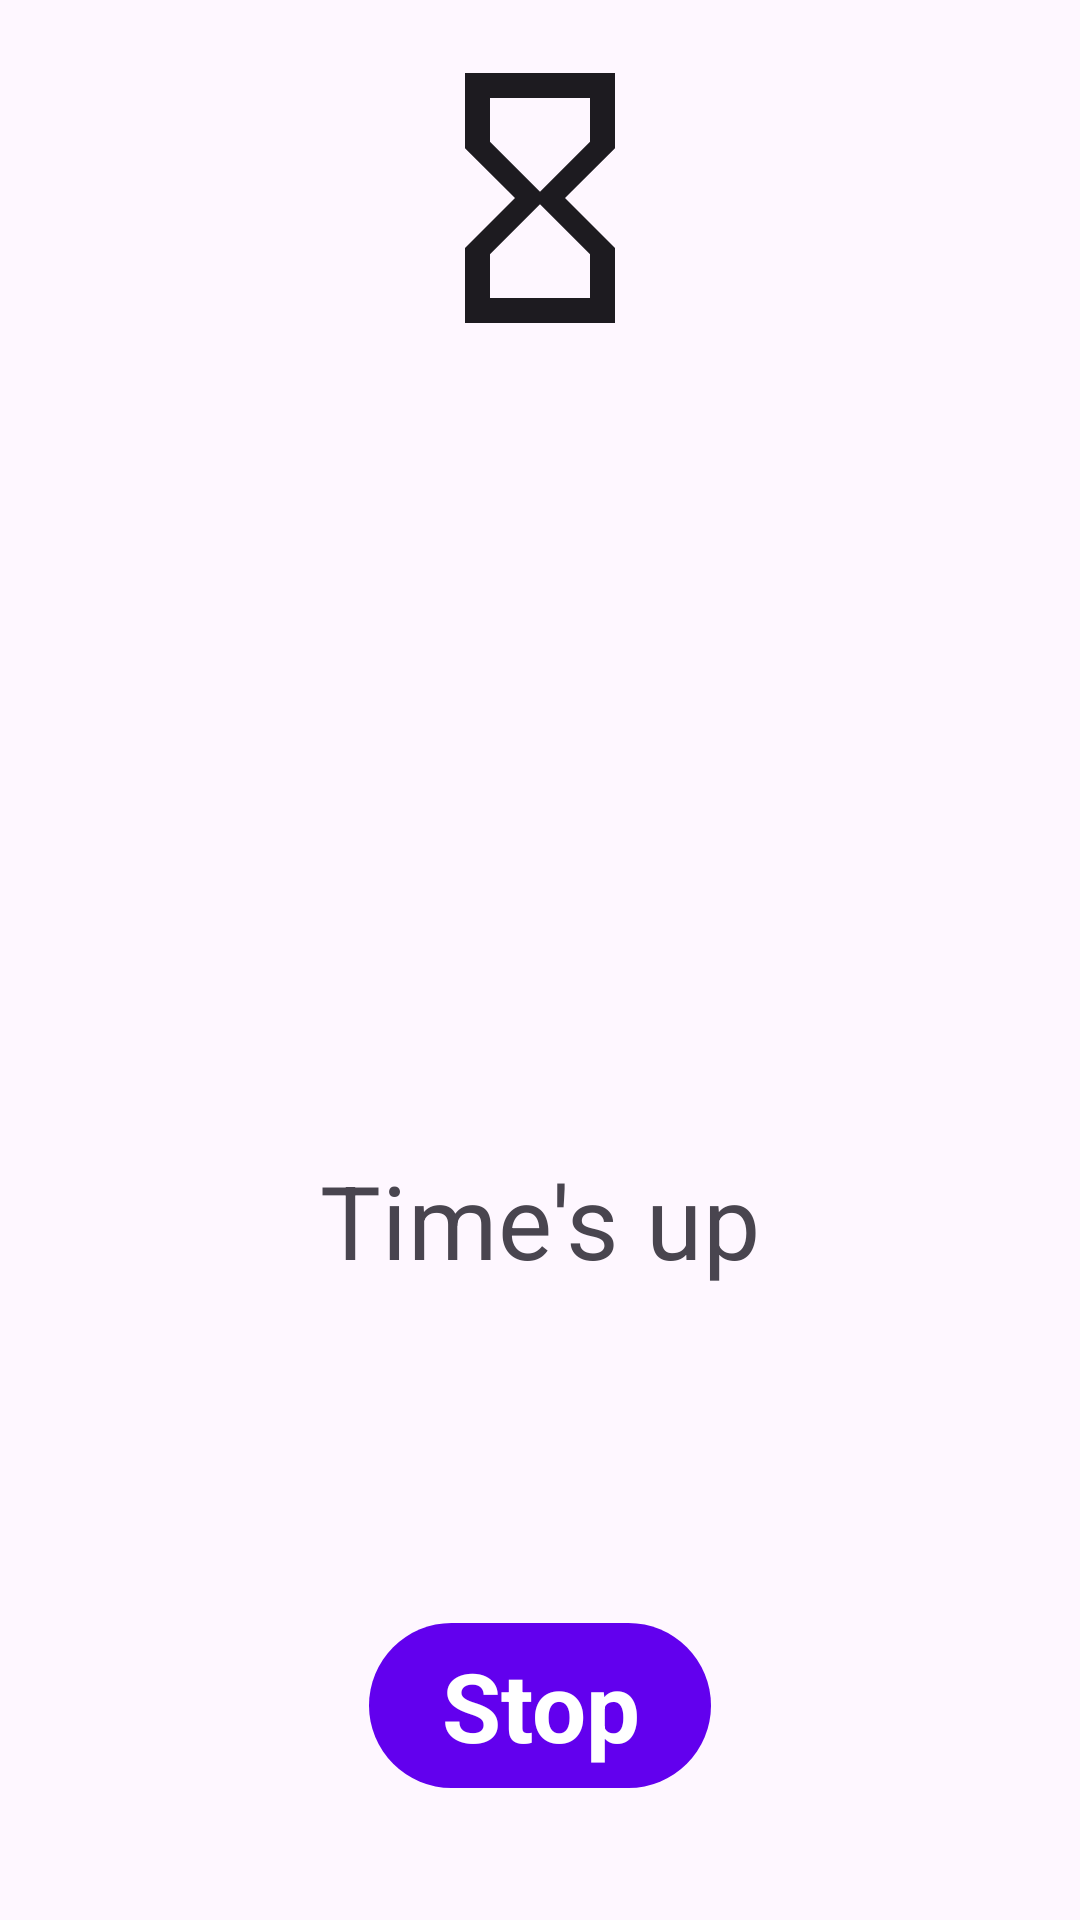

Point at icon controls on the screen. Image size 1080*1920, points as [x,y].
timer: [540,198]
